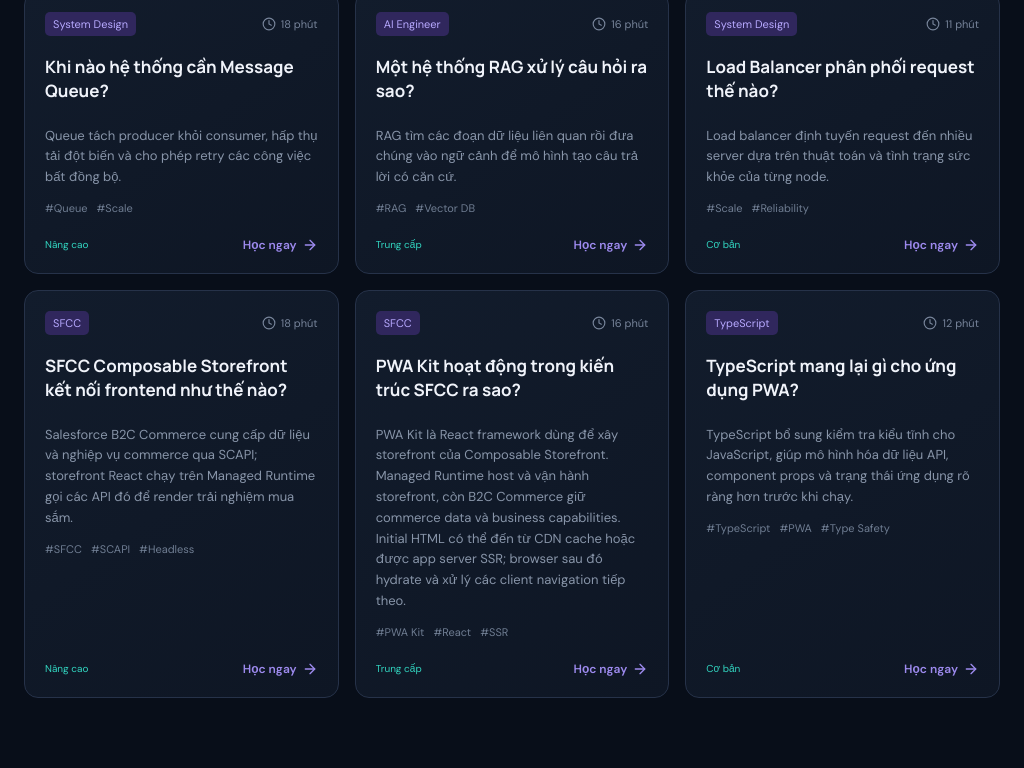
Scenario: rich lesson experience › disables autoplay for reduced motion while retaining manual step controls
Click the button "PWA Kit hoạt động trong kiến trúc SFCC" at (512, 494), box [355,290,669,698]
(page scrolled)
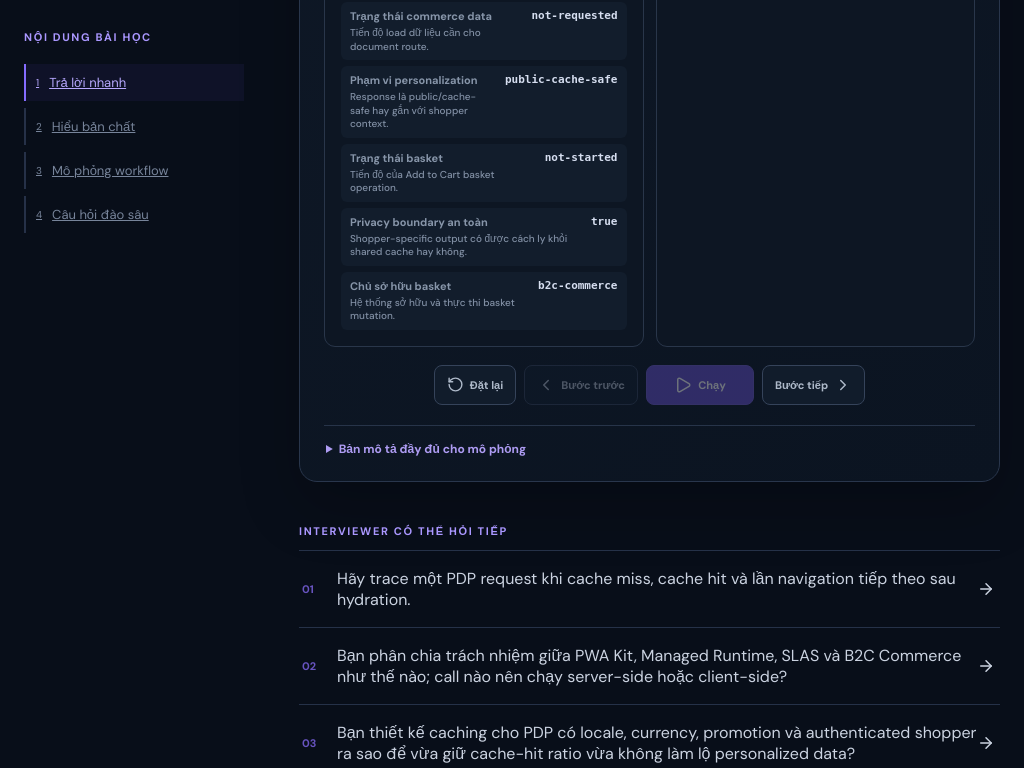
Expected: the button with aria-label "Chạy mô phỏng" is disabled, [646,365,754,405]
Expected: the button with aria-label "Đi tới bước tiếp theo" is enabled
Click the button with aria-label "Đi tới bước tiếp theo" at (814, 385), box [762,365,865,405]
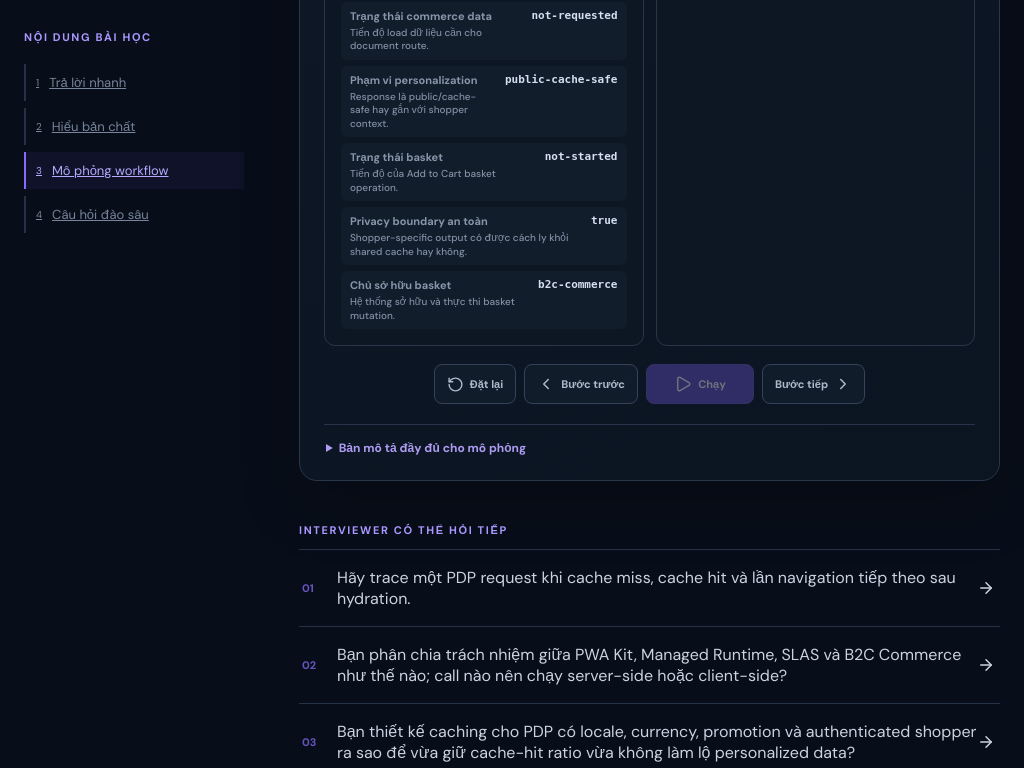
Expected: the button with aria-label "Quay lại bước trước" is enabled, [524,364,638,404]
